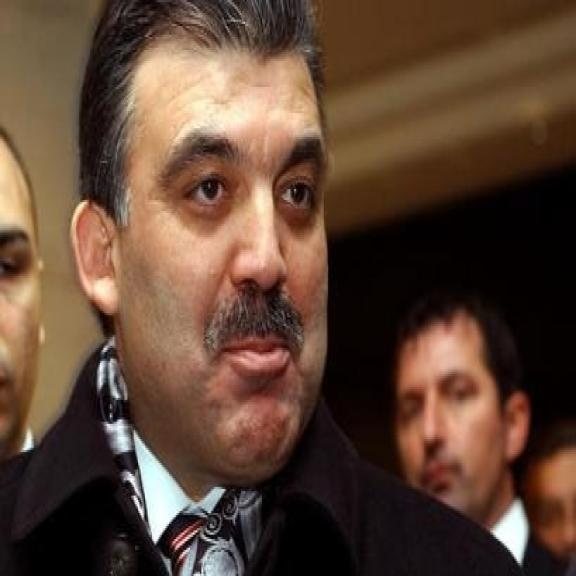face: (73, 32, 333, 473), (395, 329, 533, 527)
